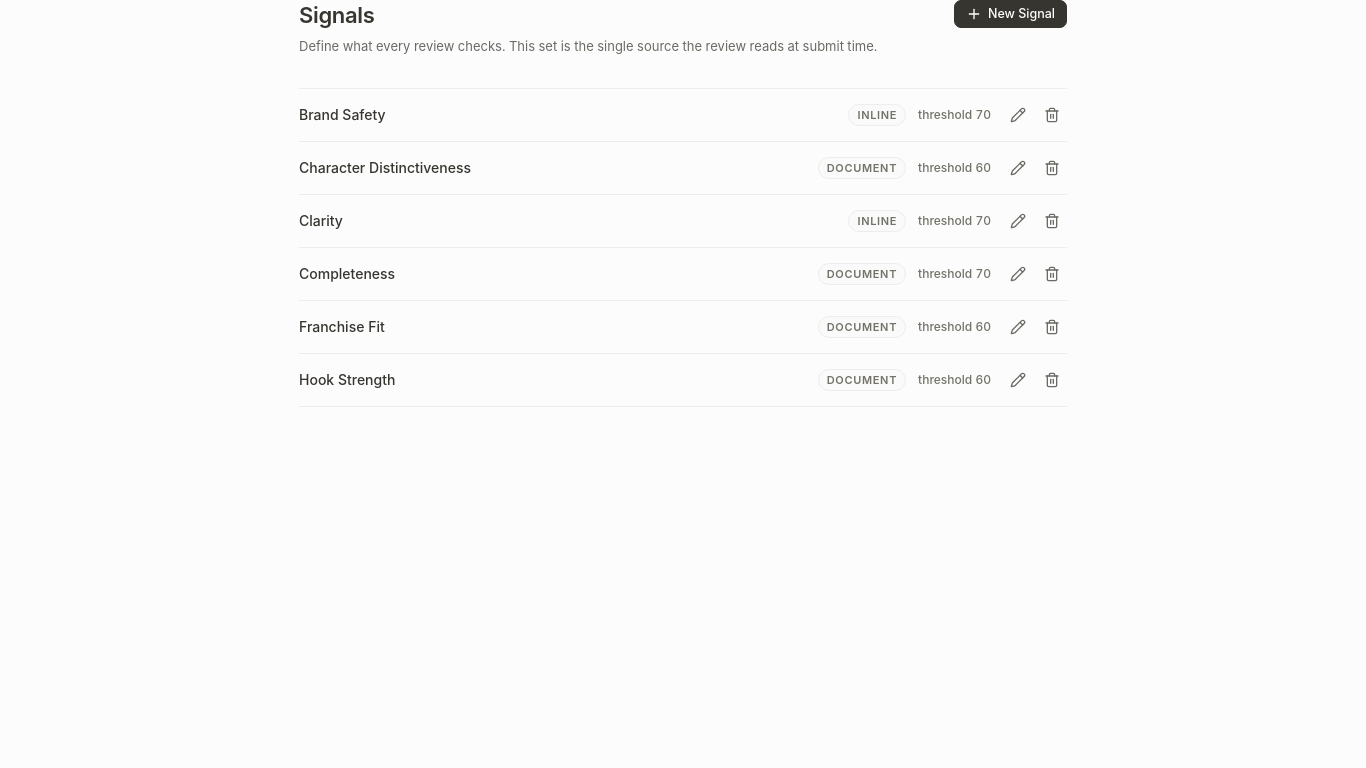
Scenario: SignalsAdminPage › creates a new signal and writes it through StorageRepository
The image size is (1366, 768).
Expected: the list named "Signals" is shown, [299,88,1067,407]
Click the button "New Signal" at (1010, 14), box [954,0,1067,28]
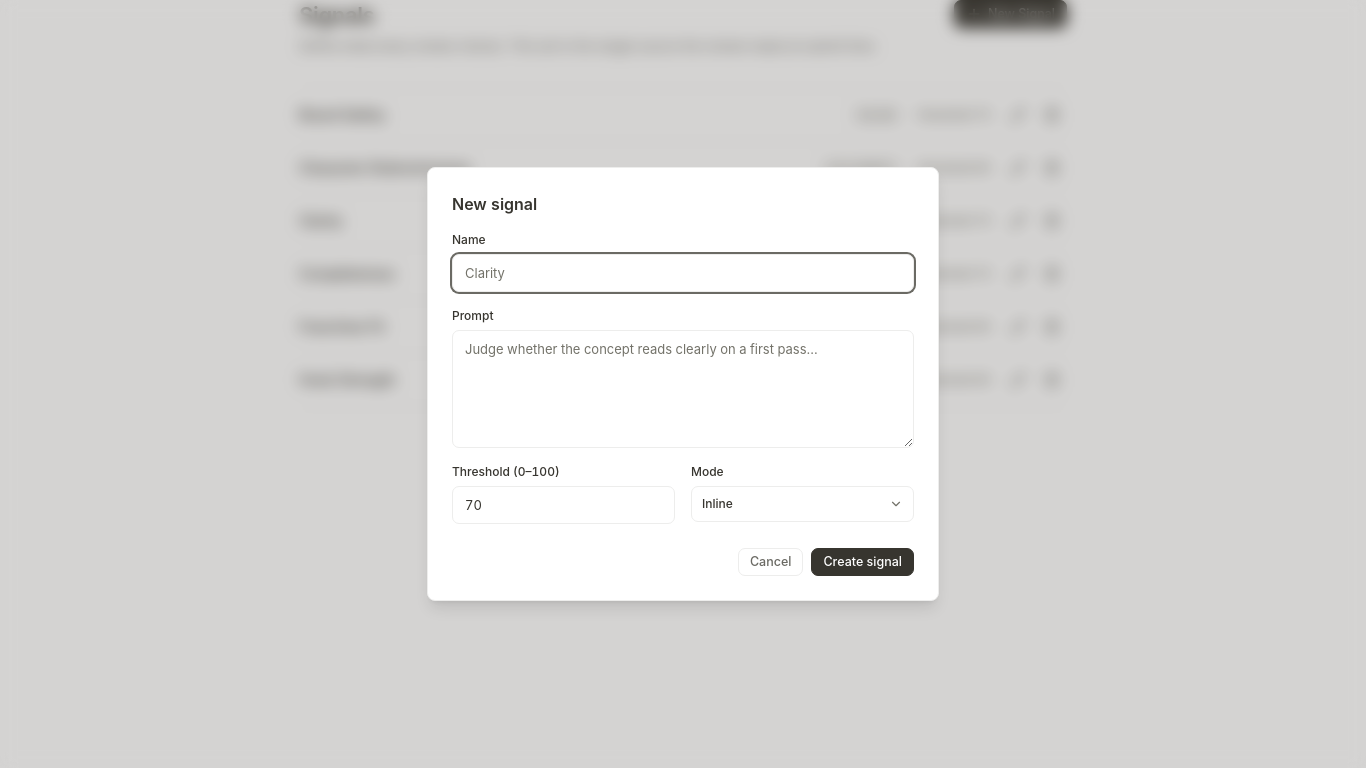
Type "Originality" into the field labelled "Name" at (683, 273), box [452,254,914,292]
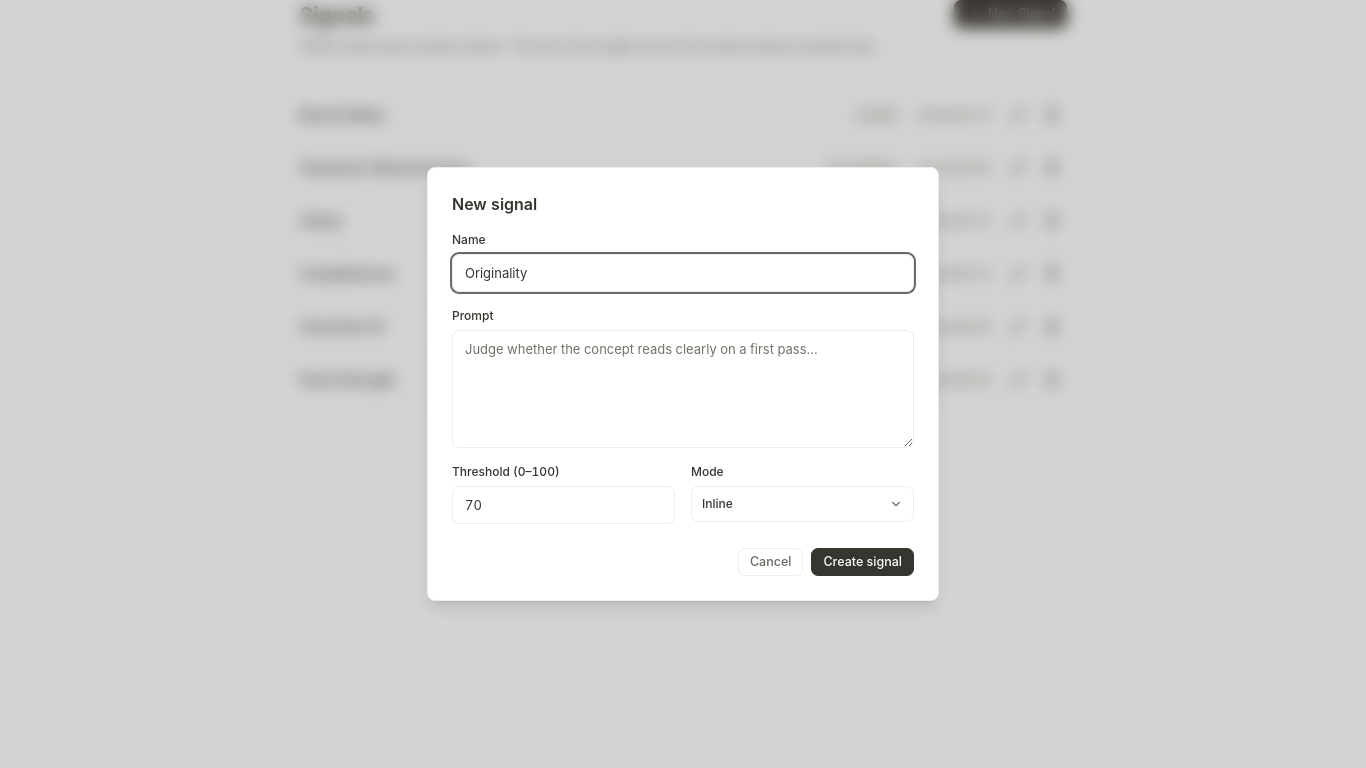
Type "Judge how fresh it is." into the text box labelled "Prompt" at (683, 389), box [452,330,914,448]
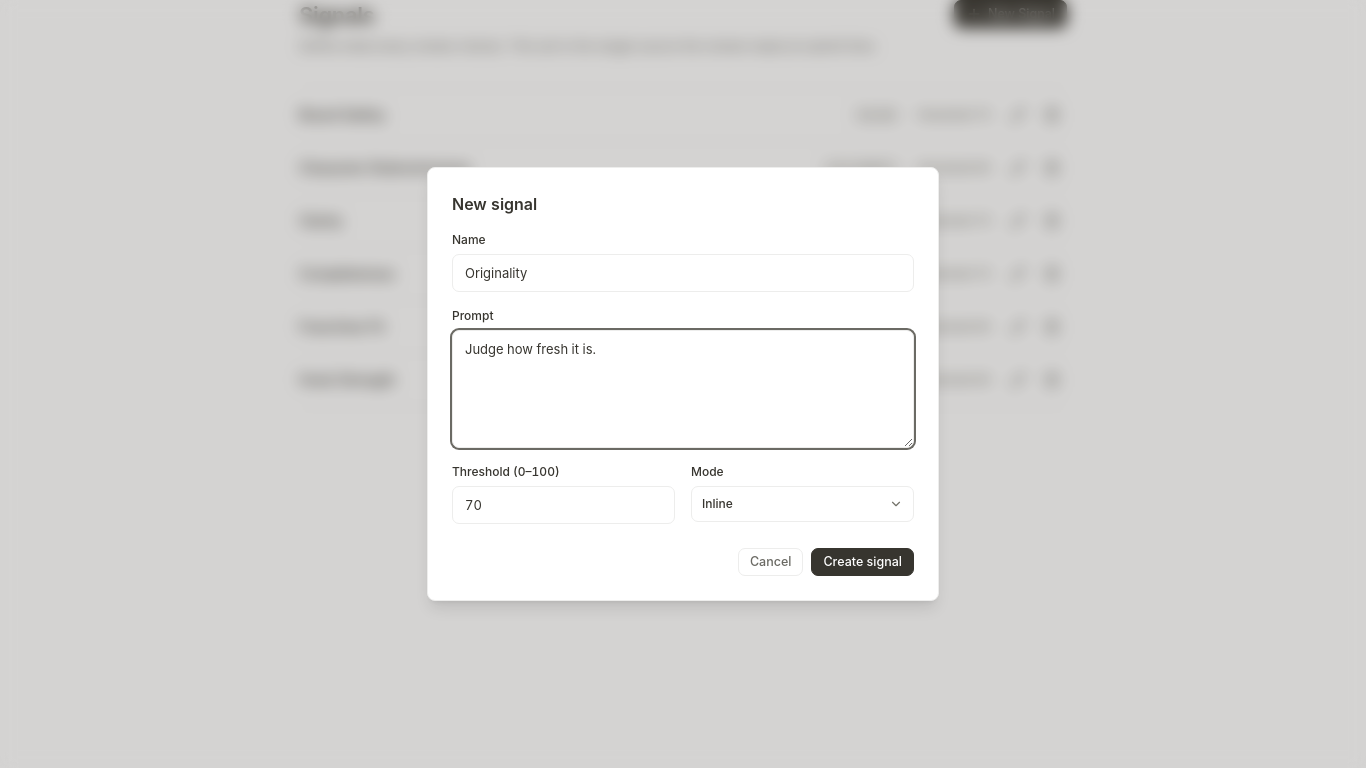
Replace the text in the number field labelled "Threshold (0–100)" with "80" at (564, 505), box [452,486,675,524]
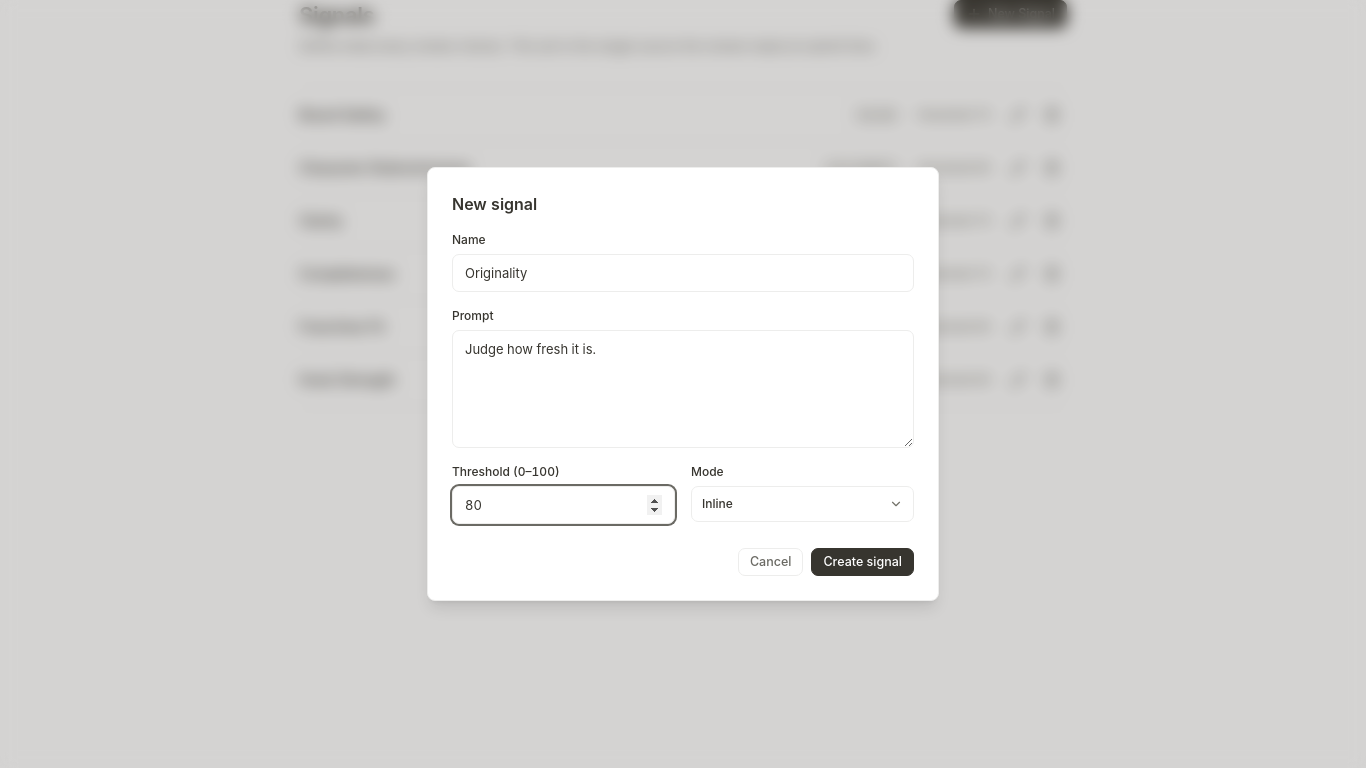
Click the button "Create signal" at (863, 562), box [811,548,914,576]
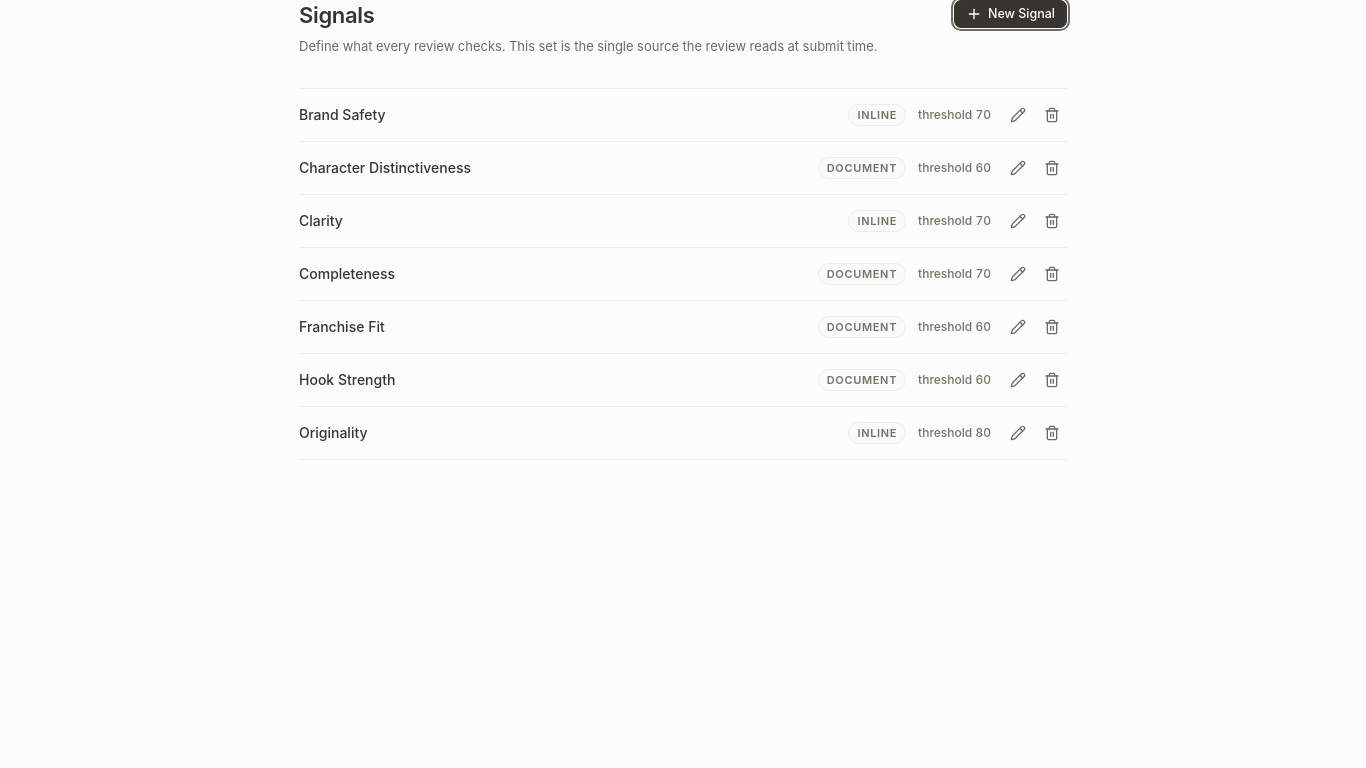
Expected: the text "Originality" is shown, [299,424,368,441]
